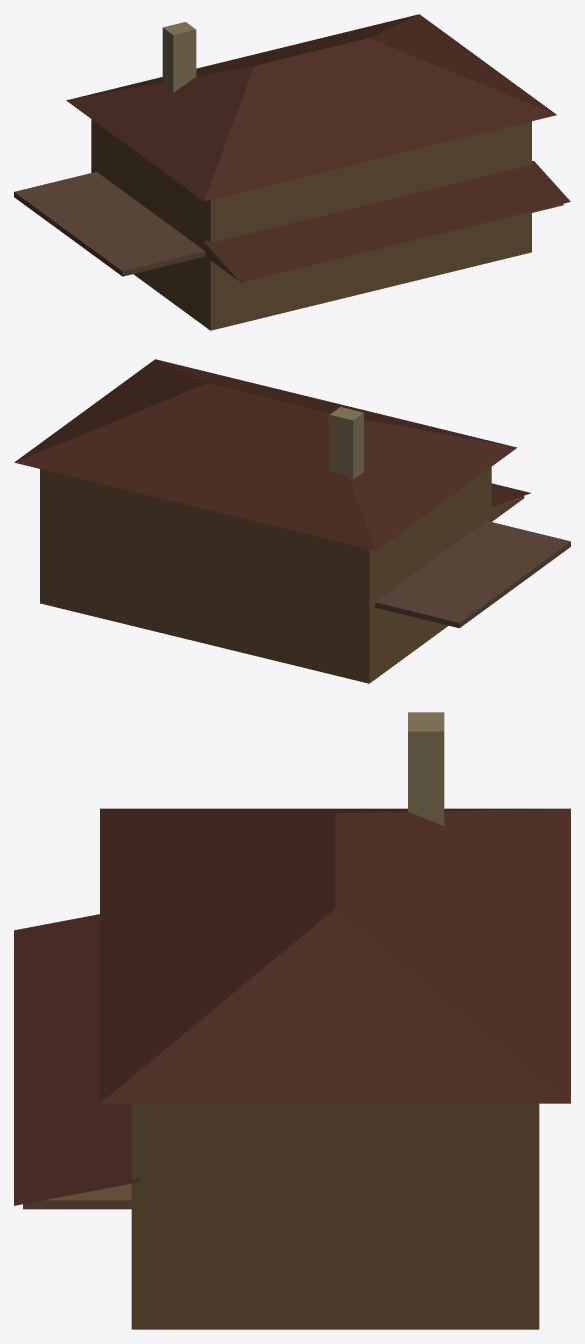
The model's file is cr-ranch-two.towns-v1.lod2.glb.
The picture shows the model from 3 angles, top to bottom: view 1: azimuth 30°, elevation 25°; view 2: azimuth 150°, elevation 25°; view 3: azimuth 270°, elevation 25°; orthographic projection. The views are drawn at different scales.
Visible parts, largest first — view 1: cr-ranch-two; view 2: cr-ranch-two; view 3: cr-ranch-two.
Part boxes in pixels (x1,y1,x2,y2): cr-ranch-two: (14,14,570,330); cr-ranch-two: (14,359,570,683); cr-ranch-two: (14,712,570,1329).
Bounding box in the file's own units: 18.3 × 9.4 × 12.3.
